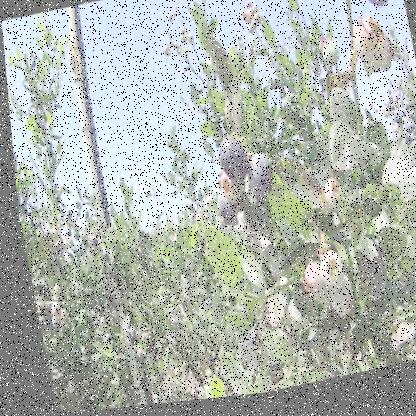intermediate: (297, 267, 320, 307)
mature: (214, 142, 249, 186), (241, 158, 274, 203), (351, 1, 394, 12)
young: (349, 20, 393, 83), (209, 183, 244, 217), (314, 257, 340, 296), (323, 284, 349, 322), (319, 183, 342, 219), (262, 240, 285, 271), (43, 298, 63, 332), (318, 45, 340, 73)
